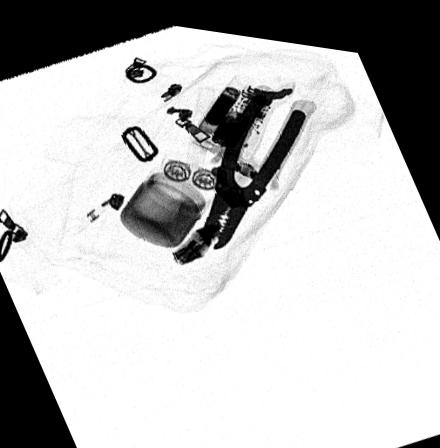Pliers: (200, 84, 307, 243)
